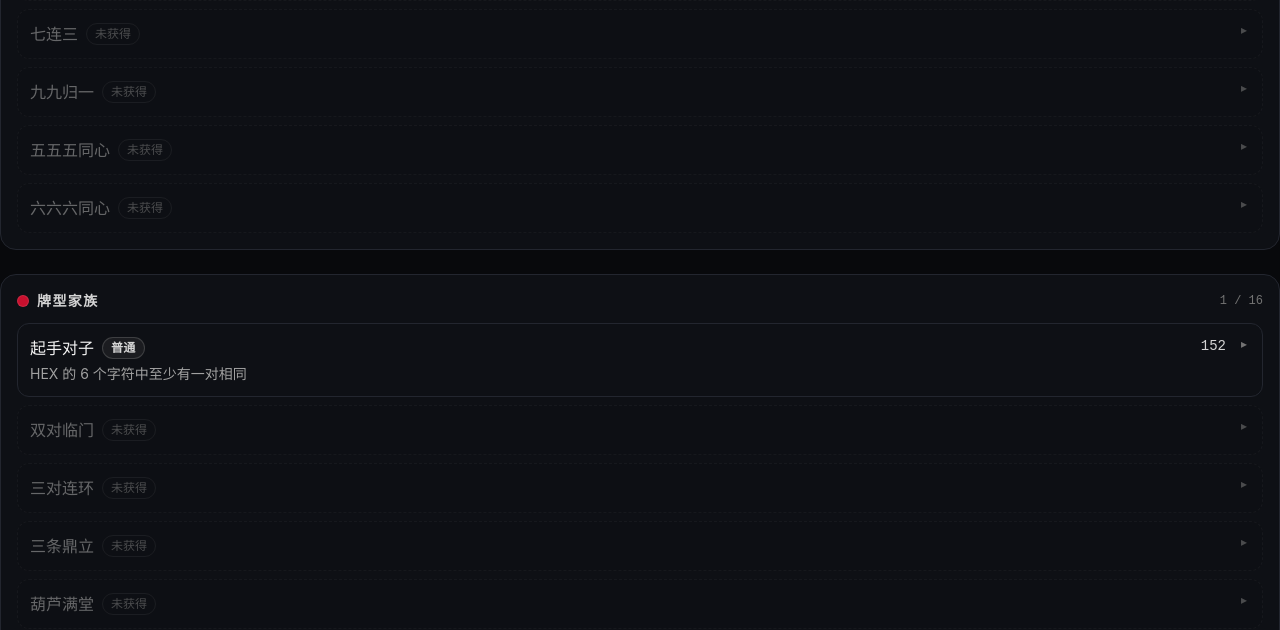
Scenario: BadgeBook 集成 — 就地展开 › 8. 已获得展开后显示真实概率、判定条件与命中日期
(page scrolled)
Click the button "起手对子 普通 HEX 的 6 个字符中至少有一对相同 152 ▸" at (62, 348), box [18,324,1262,396]
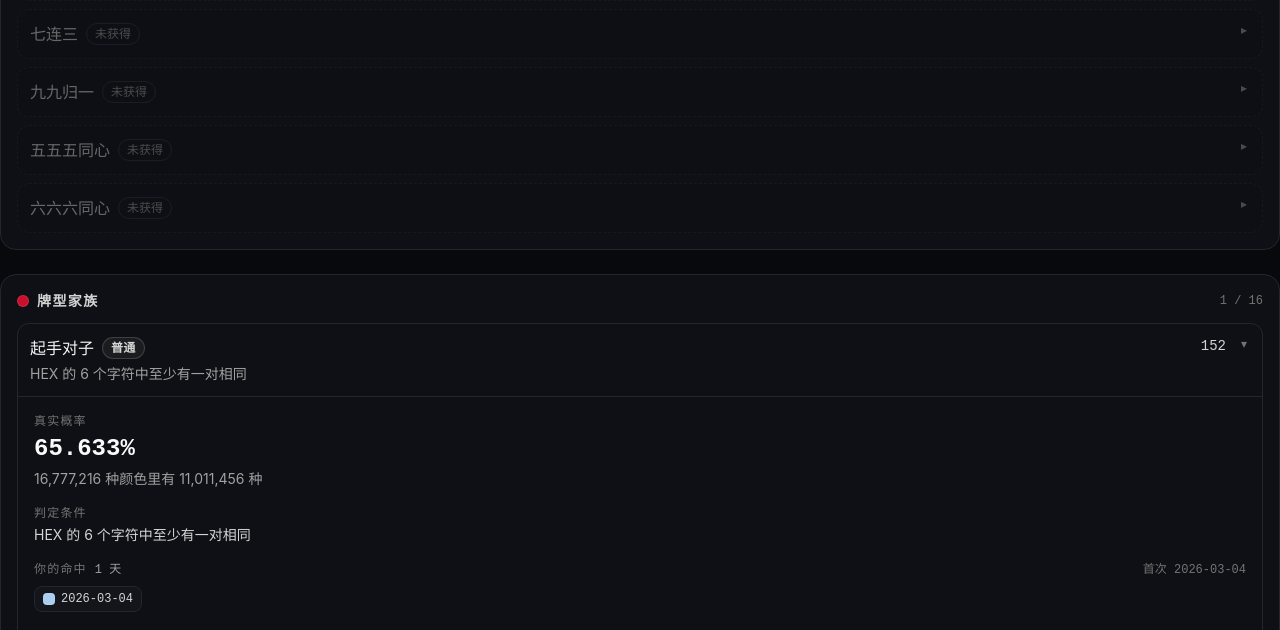
Expected: the element with test id "badge-detail" shows "真实概率", [34,413,87,428]
Expected: the element with test id "badge-detail" shows "判定条件", [34,505,87,520]
Expected: the element with test id "badge-detail" shows "HEX 的 6 个字符中至少有一对相同", [34,526,251,543]
